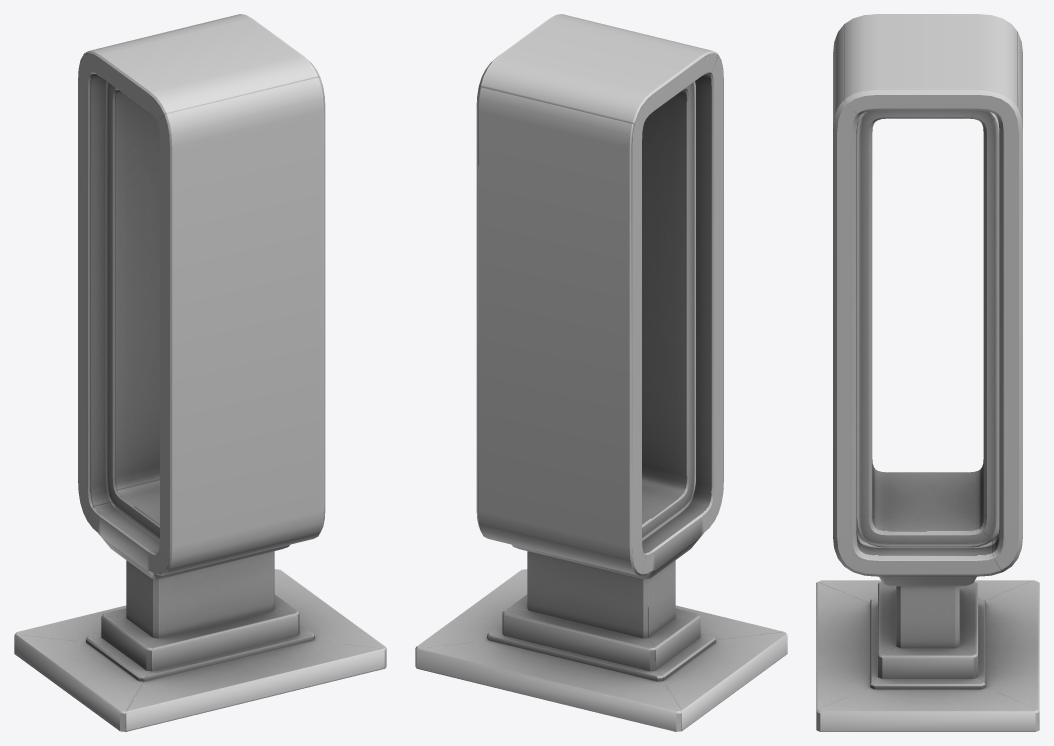
File: SmallObject.fbx
The picture shows the model from 3 angles, left to right: view 1: azimuth 30°, elevation 25°; view 2: azimuth 150°, elevation 25°; view 3: azimuth 270°, elevation 25°; orthographic projection.
Visible parts, largest first — view 1: 小道具01; view 2: 小道具01; view 3: 小道具01.
Part boxes in pixels (bbox=[...]): 小道具01: bbox=[14, 14, 386, 731]; 小道具01: bbox=[415, 14, 787, 731]; 小道具01: bbox=[816, 14, 1039, 731].
Bounding box in the file's own units: 13.63 × 29.54 × 9.74.
